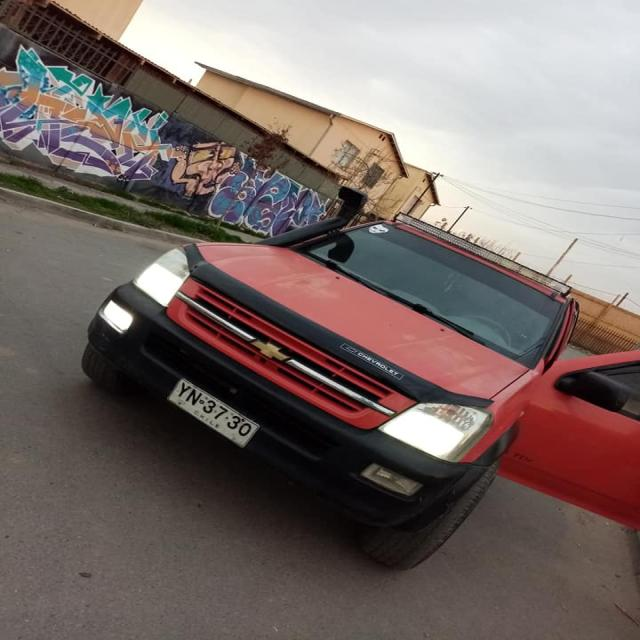patente: (166, 377, 260, 448)
